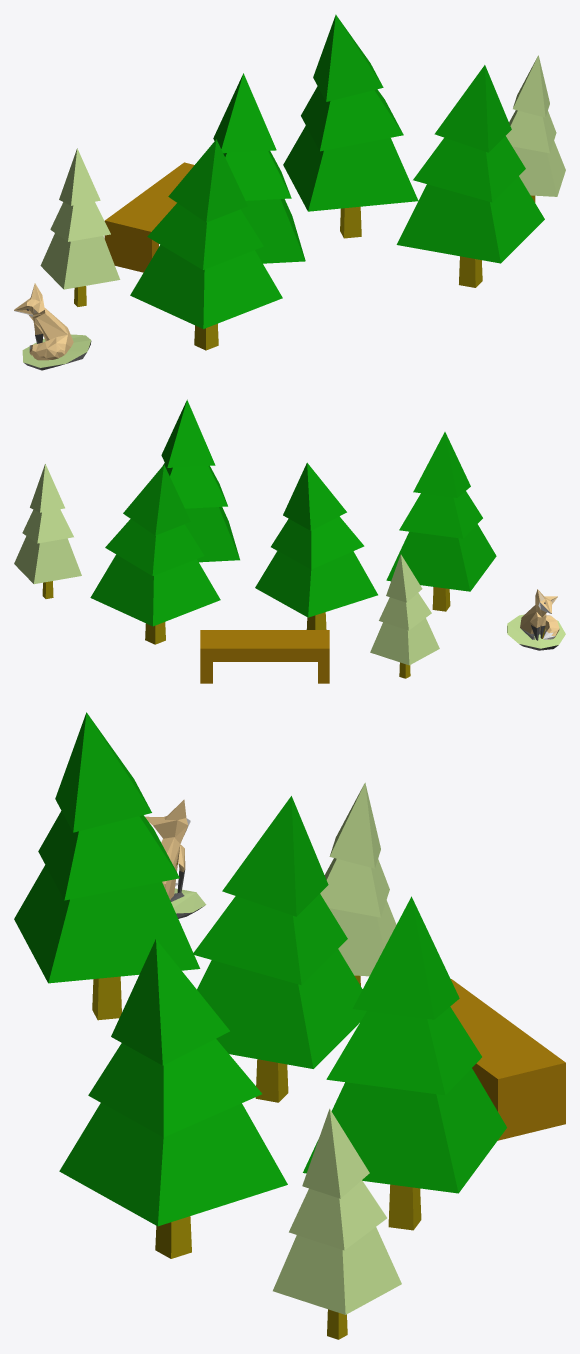
File: ForestBathing.gltf
The picture shows the model from 3 angles, top to bottom: view 1: azimuth 30°, elevation 25°; view 2: azimuth 150°, elevation 25°; view 3: azimuth 270°, elevation 25°; orthographic projection. The views are drawn at different scales.
Parts seen in each view (by area): view 1: Mesh33 Component_1_1 Model, Mesh36 Component_1_1 Model, Mesh32 Component_1_1 Model, Mesh31 Component_1_1 Model, Mesh43 Component_1_1 Model, Mesh34 Component_1_1 Model, Mesh13 Group2 Component_1_1 Model, Mesh38 Component_1_1 Model, Mesh44 Component_1_1 Model, Mesh35 Component_1_1 Model, Mesh25 Group4 Component_1_1 Model, Mesh42 Component_1_1 Model (+14 smaller); view 2: Mesh32 Component_1_1 Model, Mesh42 Component_1_1 Model, Mesh13 Group2 Component_1_1 Model, Mesh36 Component_1_1 Model, Mesh34 Component_1_1 Model, Mesh39 Component_1_1 Model, Mesh43 Component_1_1 Model, Mesh35 Component_1_1 Model, Mesh17 Group3 Component_1_1 Model, Mesh40 Component_1_1 Model, Mesh33 Component_1_1 Model, Mesh25 Group4 Component_1_1 Model (+12 smaller); view 3: Mesh33 Component_1_1 Model, Mesh32 Component_1_1 Model, Mesh36 Component_1_1 Model, Mesh42 Component_1_1 Model, Mesh31 Component_1_1 Model, Mesh34 Component_1_1 Model, Mesh13 Group2 Component_1_1 Model, Mesh39 Component_1_1 Model, Mesh43 Component_1_1 Model, Mesh38 Component_1_1 Model, Mesh17 Group3 Component_1_1 Model, Mesh35 Component_1_1 Model (+13 smaller).
Part boxes in pixels (x1,y1,x2,y2): Mesh33 Component_1_1 Model: (396,176,544,263); Mesh36 Component_1_1 Model: (130,245,282,328); Mesh32 Component_1_1 Model: (283,125,418,211); Mesh31 Component_1_1 Model: (413,136,525,202); Mesh43 Component_1_1 Model: (147,203,263,269); Mesh34 Component_1_1 Model: (301,86,403,151); Mesh13 Group2 Component_1_1 Model: (104,162,194,272); Mesh38 Component_1_1 Model: (434,65,511,152); Mesh44 Component_1_1 Model: (168,139,247,222); Mesh35 Component_1_1 Model: (313,14,383,101); Mesh25 Group4 Component_1_1 Model: (40,233,120,289); Mesh42 Component_1_1 Model: (241,199,305,263); Mesh32 Component_1_1 Model: (90,554,220,626); Mesh42 Component_1_1 Model: (255,551,377,617); Mesh13 Group2 Component_1_1 Model: (200,630,329,683); Mesh36 Component_1_1 Model: (386,524,496,591); Mesh34 Component_1_1 Model: (105,519,204,575); Mesh39 Component_1_1 Model: (271,516,364,569); Mesh43 Component_1_1 Model: (399,491,482,538); Mesh35 Component_1_1 Model: (123,464,190,535); Mesh17 Group3 Component_1_1 Model: (14,536,81,584); Mesh40 Component_1_1 Model: (283,462,346,530); Mesh33 Component_1_1 Model: (185,507,239,562); Mesh25 Group4 Component_1_1 Model: (370,618,439,665); Mesh33 Component_1_1 Model: (59,1103,287,1226); Mesh32 Component_1_1 Model: (303,1068,506,1193); Mesh36 Component_1_1 Model: (14,865,200,983); Mesh42 Component_1_1 Model: (197,949,366,1068); Mesh31 Component_1_1 Model: (88,1039,261,1137); Mesh34 Component_1_1 Model: (326,1007,481,1095); Mesh13 Group2 Component_1_1 Model: (450,979,565,1140); Mesh39 Component_1_1 Model: (192,894,347,985); Mesh43 Component_1_1 Model: (38,811,179,900); Mesh38 Component_1_1 Model: (111,939,229,1065); Mesh17 Group3 Component_1_1 Model: (273,1227,401,1314); Mesh35 Component_1_1 Model: (352,896,459,1019).
Bounding box in the file's own units: 3604 × 1348 × 1973.
